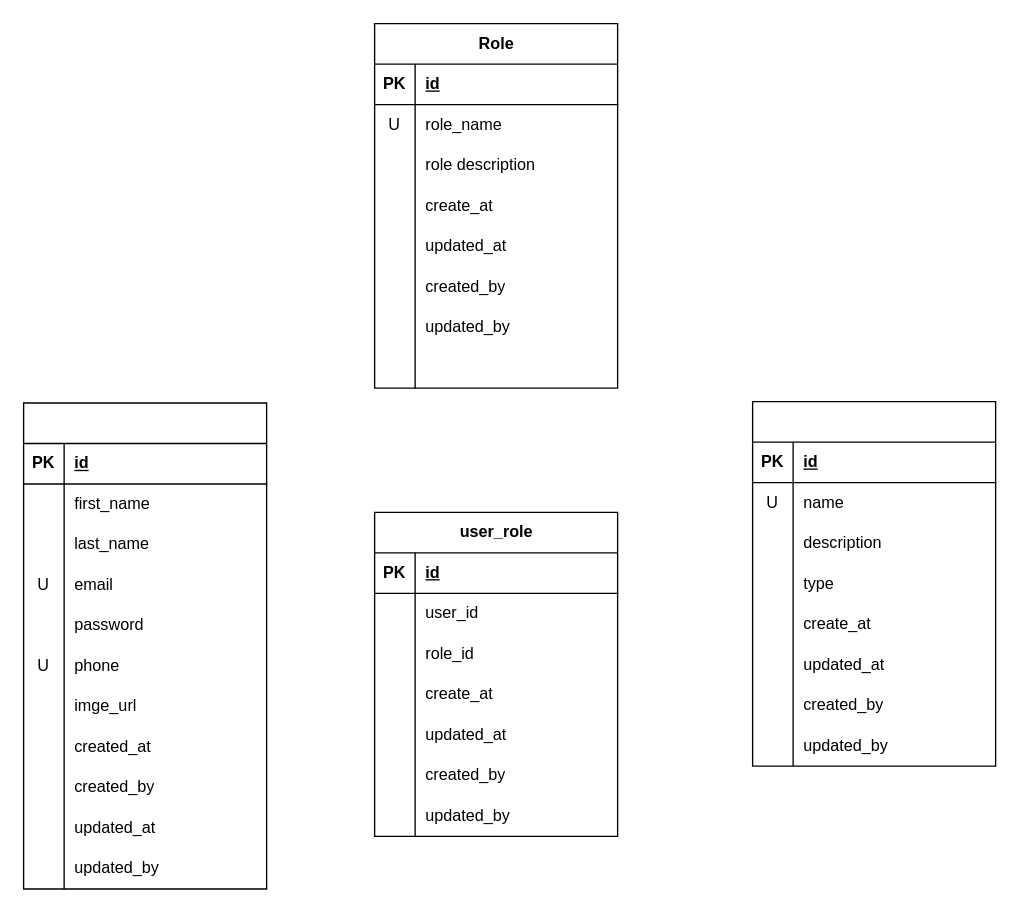
This 1019x913 diagram has some shape labels left out. The box of each missing label's shape, as (x1, y1, x2, y2) in pixels:
resource: (751, 400, 996, 766)
User: (22, 402, 267, 889)
